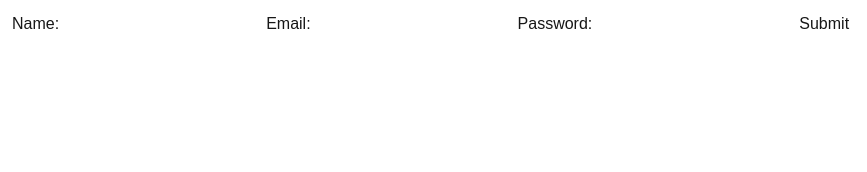
RegistrationForm › shows error message when any field is missing
Note: Fill the fields with missing email
Type "John Doe" into the field with test id "name-input" at (163,24), box [59, 12, 266, 36]
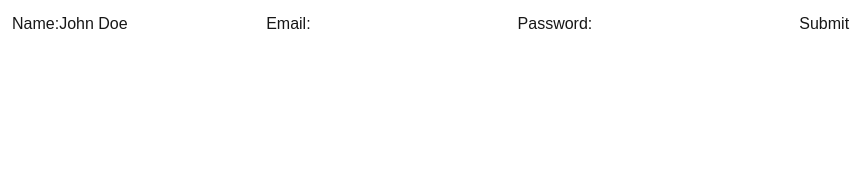
Type "password123" into the password field with test id "password-input" at (696,24), box [592, 12, 799, 36]
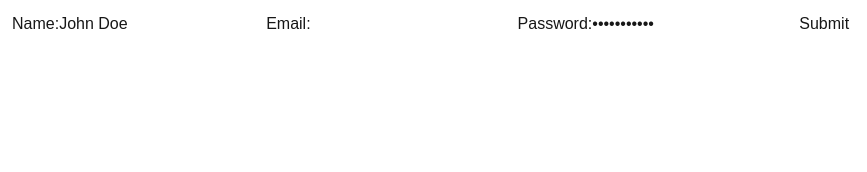
Click the button with test id "submit-button" at (824,24), box [799, 12, 849, 36]
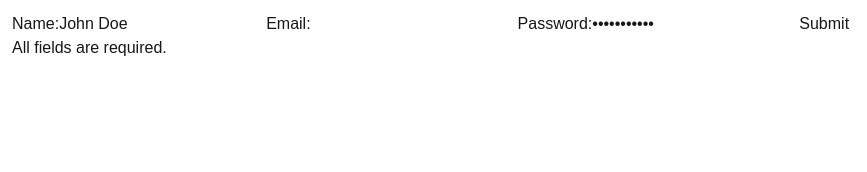
Expected: the text with test id "error-message" reads "All fields are required.", [12, 39, 167, 56]
